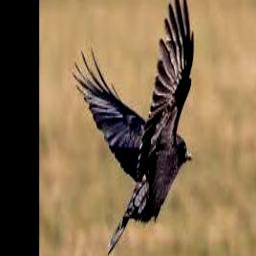Crow: (72, 0, 194, 253)
